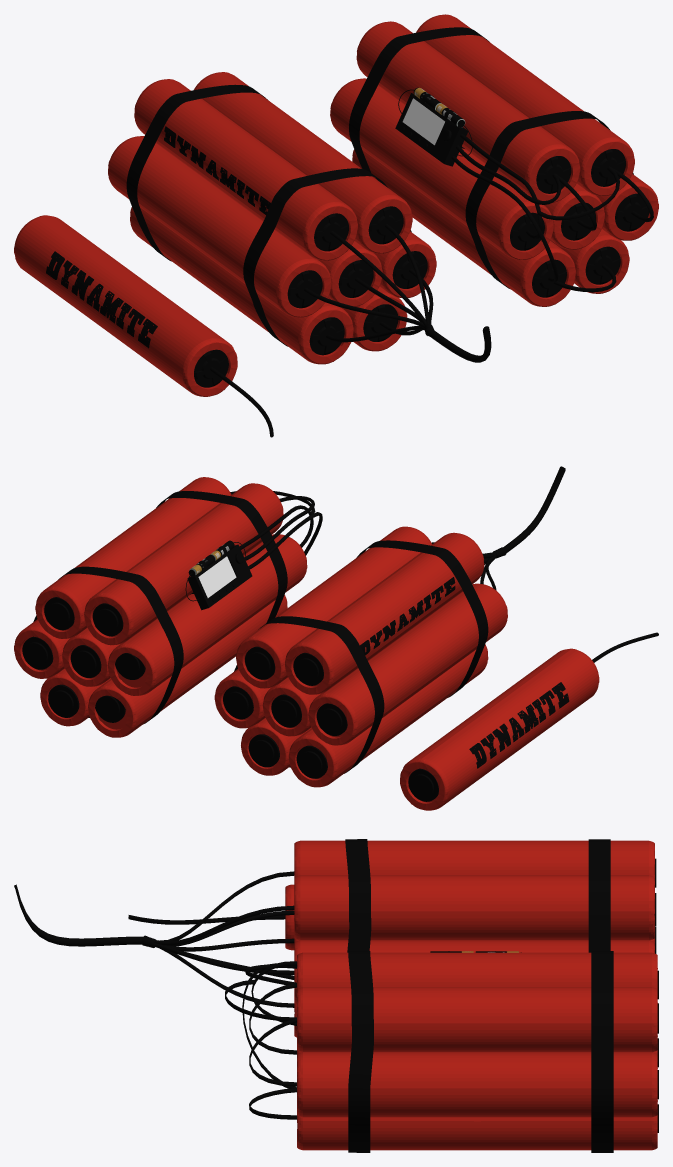
The model's file is dynamite.fbx.
3 renders of one model, top to bottom at view 1: azimuth 30°, elevation 25°; view 2: azimuth 150°, elevation 25°; view 3: azimuth 270°, elevation 25°, orthographic. The views are drawn at different scales.
Parts seen in each view (by area): view 1: Cylinder.012, Cylinder.033, Cylinder.010, Cylinder.046, Cylinder.048, Cylinder.008, Cylinder.044, Cylinder.004, Cylinder.040, BezierCircle.001, BezierCircle, BezierCircle.004 (+31 smaller); view 2: Cylinder.012, Cylinder.033, Cylinder.010, Cylinder.046, Cylinder.048, Cylinder.008, Cylinder.044, Cylinder.004, Cylinder.040, BezierCircle, BezierCircle.003, BezierCircle.001 (+28 smaller); view 3: Cylinder.042, Cylinder.008, Cylinder.044, Cylinder.046, Cylinder.010, Cylinder.038, BezierCircle.003, BezierCircle.004, Cylinder.006, BezierCircle, BezierCircle.001, BezierCurve.007 (+12 smaller).
Part boxes in pixels (x1,y1,x2,y2): Cylinder.012: [108, 136, 331, 317]; Cylinder.033: [14, 215, 237, 396]; Cylinder.010: [134, 79, 357, 260]; Cylinder.046: [356, 21, 580, 202]; Cylinder.048: [330, 78, 553, 259]; Cylinder.008: [194, 72, 412, 253]; Cylinder.044: [416, 14, 634, 195]; Cylinder.004: [130, 207, 353, 364]; Cylinder.040: [352, 149, 575, 306]; BezierCircle.001: [243, 168, 411, 346]; BezierCircle: [126, 84, 267, 261]; BezierCircle.004: [465, 111, 633, 289]; Cylinder.012: [308, 583, 507, 745]; Cylinder.033: [400, 648, 599, 810]; Cylinder.010: [284, 532, 484, 694]; Cylinder.046: [84, 483, 283, 645]; Cylinder.048: [107, 534, 307, 695]; Cylinder.008: [236, 526, 431, 688]; Cylinder.044: [35, 477, 231, 638]; Cylinder.004: [288, 644, 488, 787]; Cylinder.040: [88, 595, 287, 737]; BezierCircle: [234, 616, 384, 773]; BezierCircle.003: [33, 566, 183, 724]; BezierCircle.001: [356, 540, 488, 697]; Cylinder.042: [297, 1052, 657, 1117]; Cylinder.008: [294, 875, 654, 940]; Cylinder.044: [297, 987, 657, 1052]; Cylinder.046: [297, 952, 657, 989]; Cylinder.010: [294, 840, 654, 877]; Cylinder.038: [297, 1090, 657, 1150]; BezierCircle.003: [591, 951, 613, 1152]; BezierCircle.004: [348, 951, 373, 1152]; Cylinder.006: [294, 940, 654, 1004]; BezierCircle: [588, 839, 610, 952]; BezierCircle.001: [345, 839, 371, 952]; BezierCurve.007: [15, 884, 143, 946].
Size of the model in its own units: 692 by 228 by 769.
